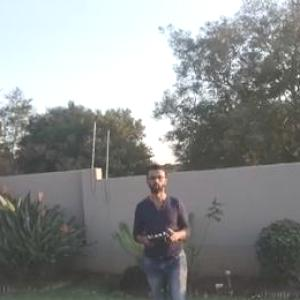follow: (130, 151, 195, 299)
